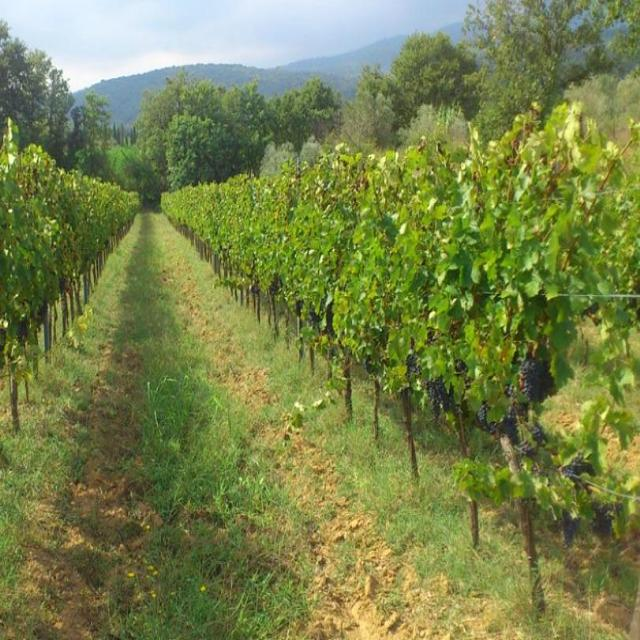row: (0, 216, 558, 639)
